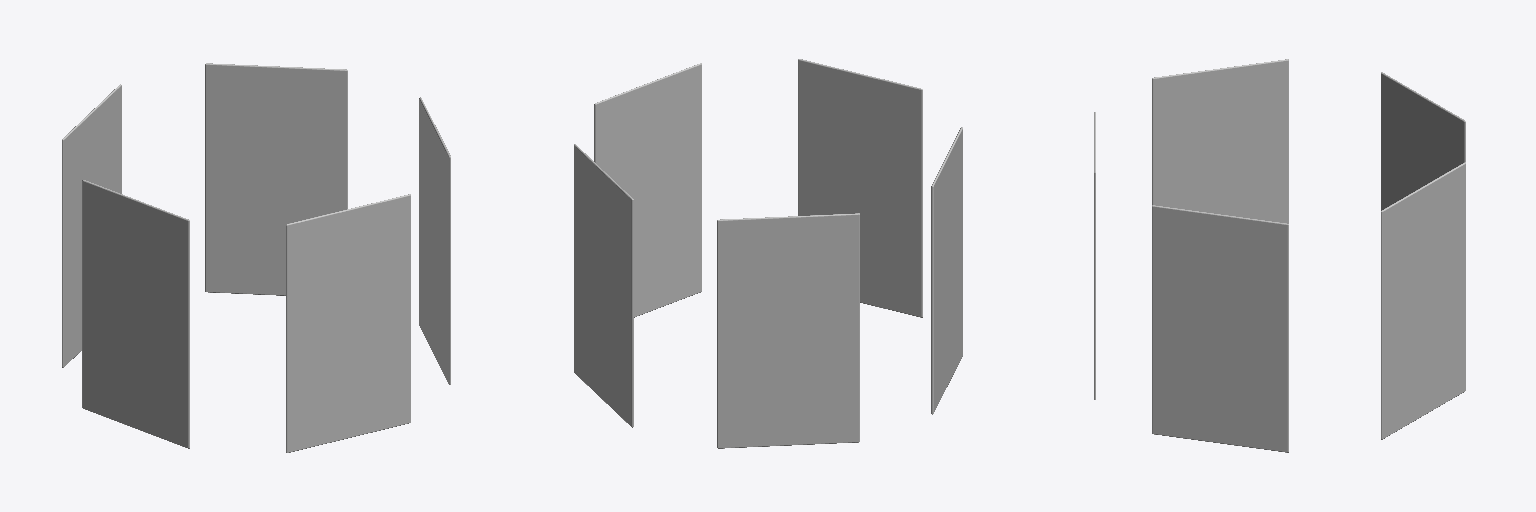
Rendered from threeWindows.obj.
3 views of the same model, side by side, from view 1: azimuth 30°, elevation 25°; view 2: azimuth 150°, elevation 25°; view 3: azimuth 270°, elevation 25° (orthographic).
Visible parts, largest first — view 1: 000_Box, 010_Box, 020_Box, 015_Box, 005_Box; view 2: 015_Box, 000_Box, 005_Box, 010_Box, 020_Box; view 3: 005_Box, 020_Box, 010_Box, 015_Box, 000_Box.
Part boxes in pixels (x1,y1,x2,y2): 000_Box: (286, 194, 410, 452); 010_Box: (205, 63, 347, 295); 020_Box: (82, 180, 189, 448); 015_Box: (62, 84, 121, 367); 005_Box: (419, 97, 450, 384); 015_Box: (717, 213, 859, 448); 000_Box: (798, 59, 922, 317); 005_Box: (594, 63, 701, 317); 010_Box: (574, 144, 633, 427); 020_Box: (931, 127, 962, 414); 005_Box: (1152, 205, 1288, 452); 020_Box: (1152, 59, 1288, 223); 010_Box: (1381, 162, 1465, 439); 015_Box: (1381, 72, 1465, 210); 000_Box: (1094, 112, 1095, 399).
Size of the model in its own units: 161 by 104 by 153.